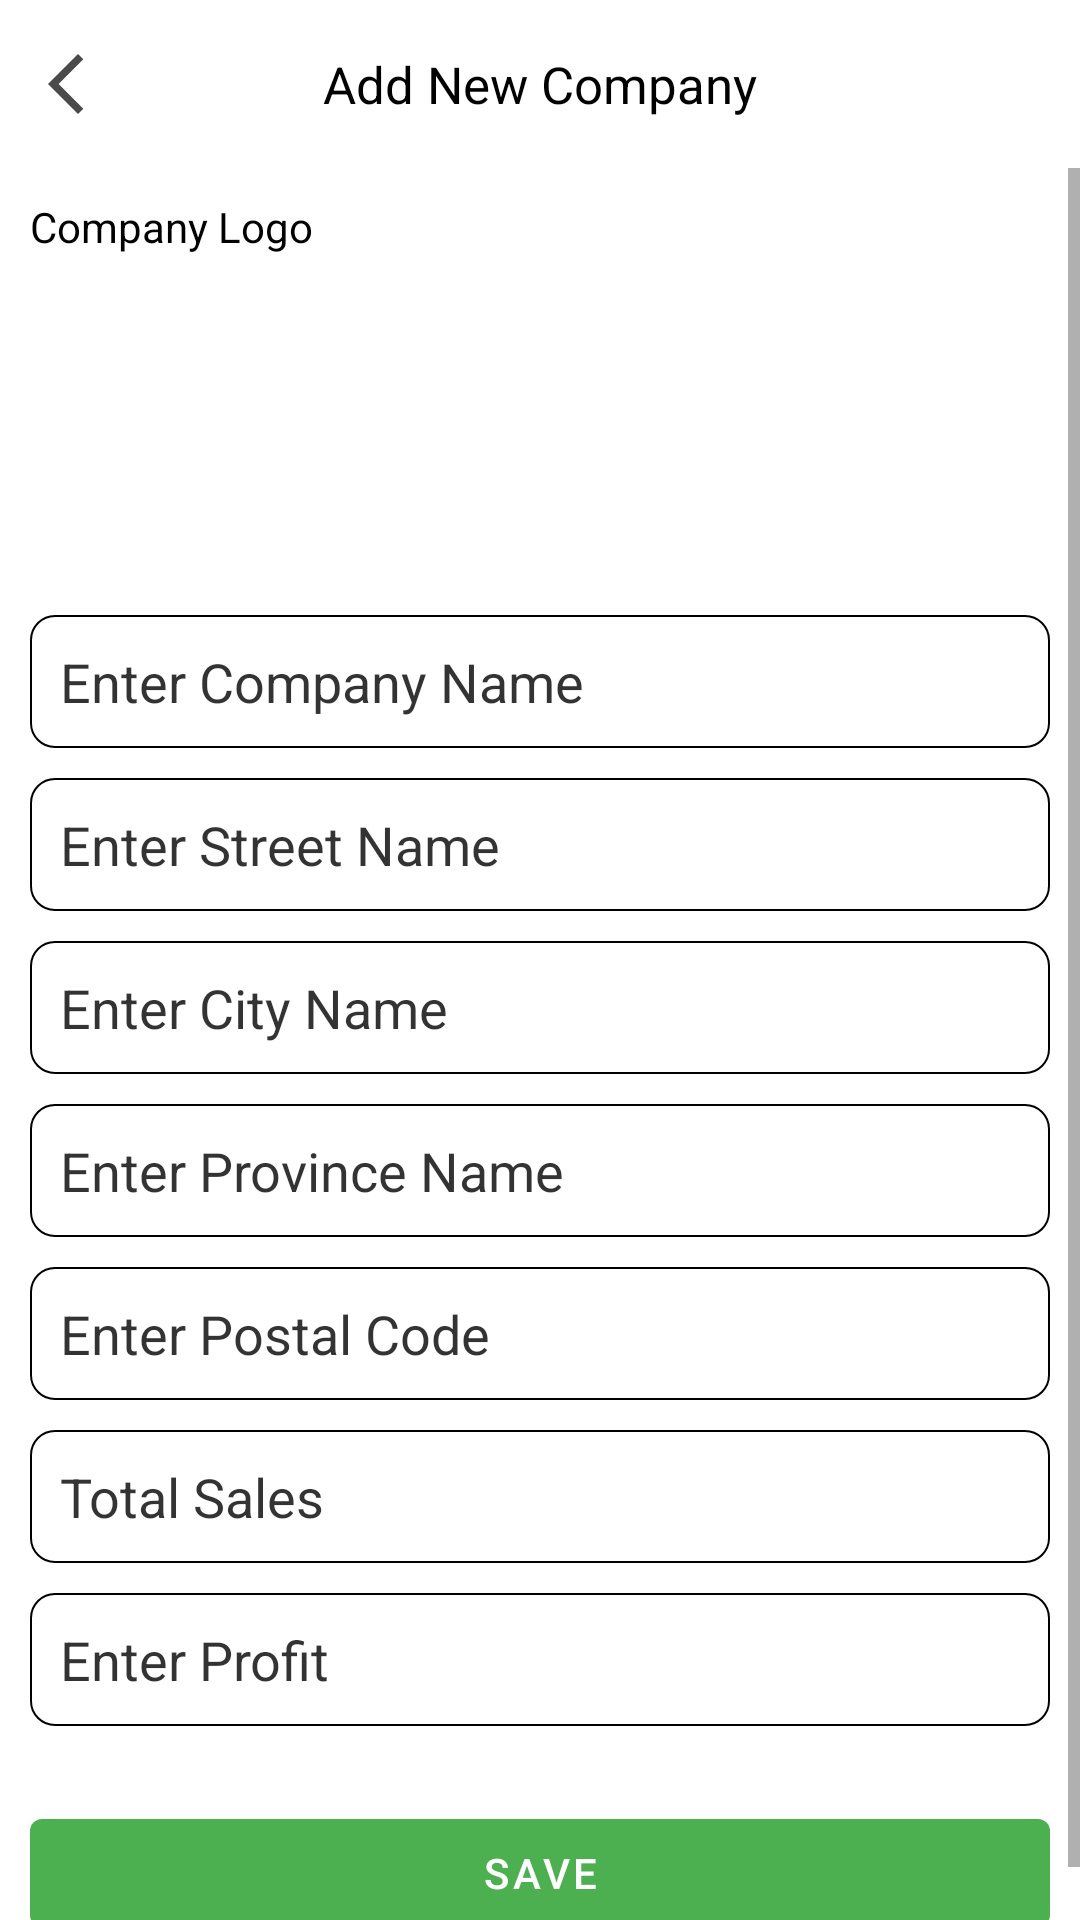

Screen size 1080 × 1920. Icon name, then its center in pixels as [x,y]:
back: [65,84]
